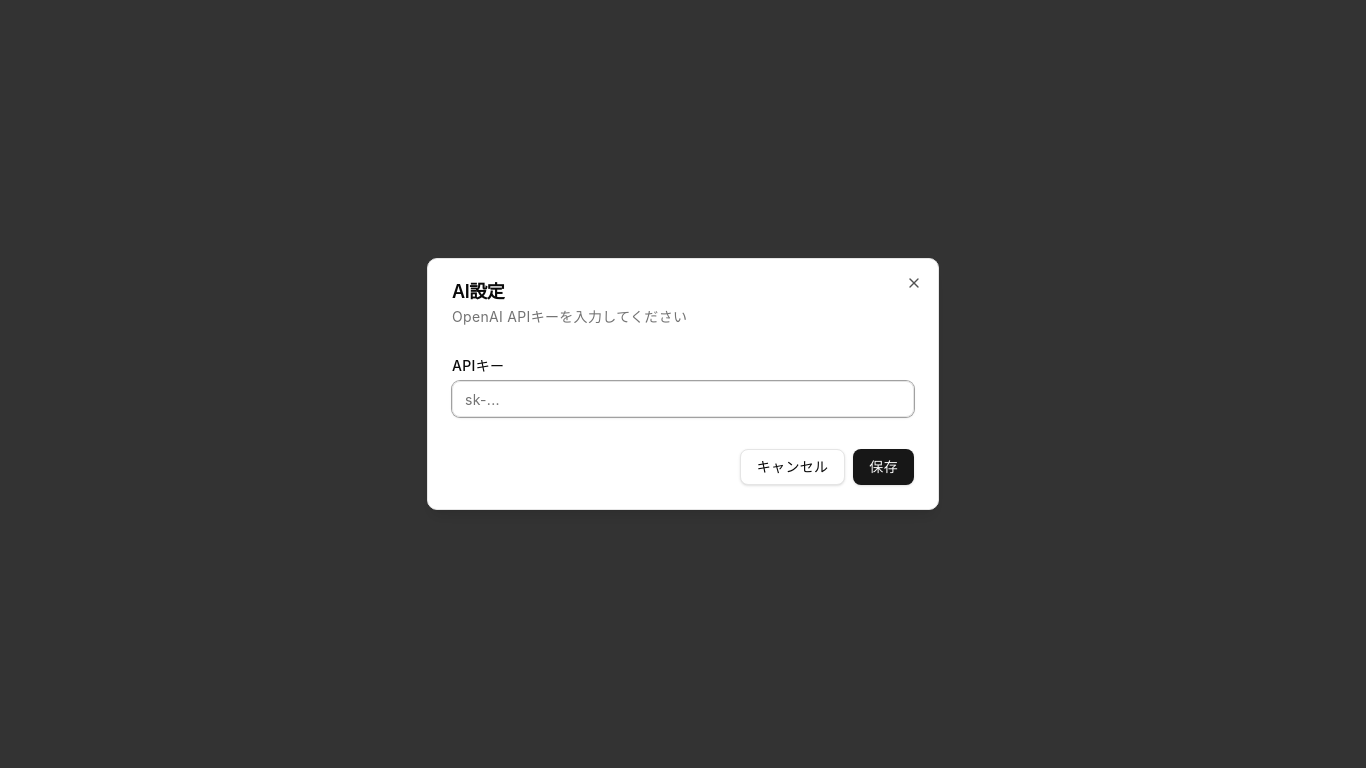
Test: AISettingsDialog › バリデーション › 空のAPIキーで保存しようとするとエラーメッセージが表示される
Click the button "保存".
click(884, 467)  # box [853,449,914,485]
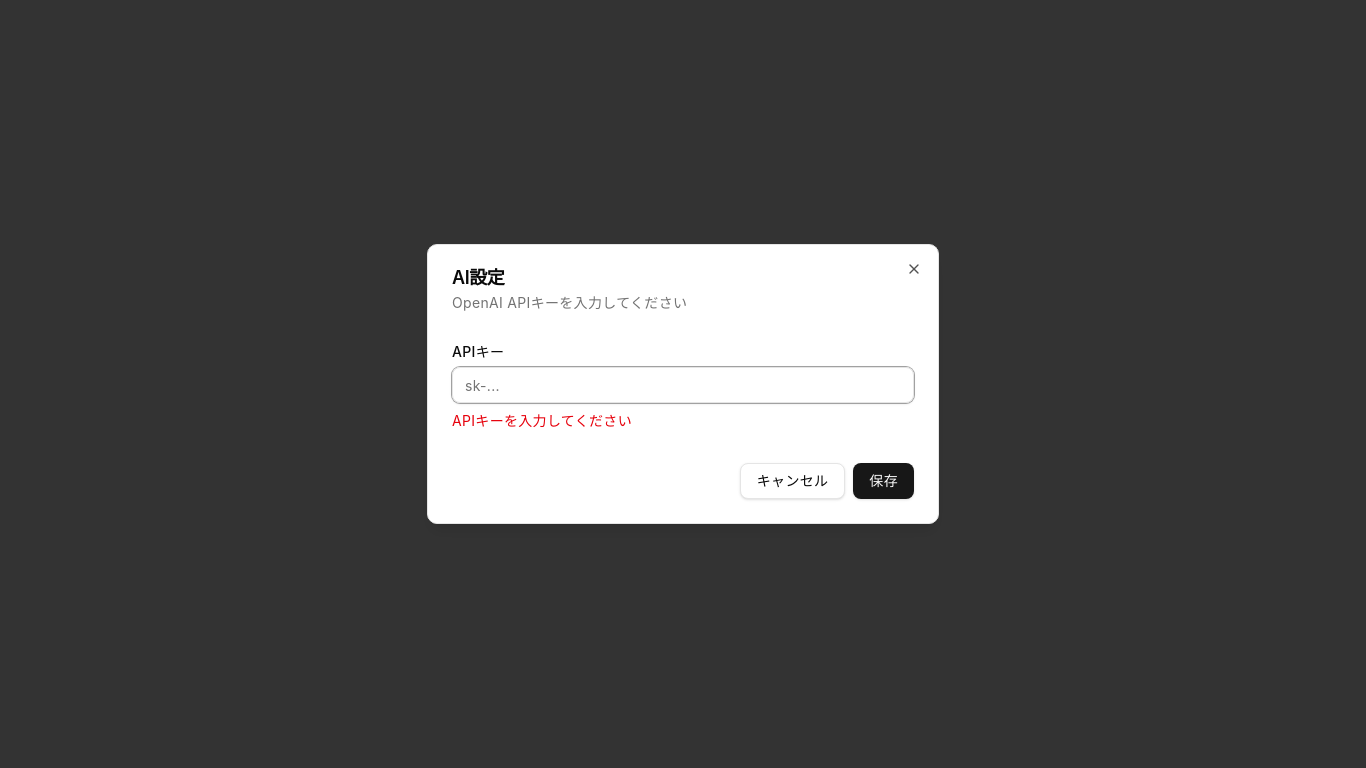
Expected: the text "APIキーを入力してください" is shown, [452,412,632,429]
